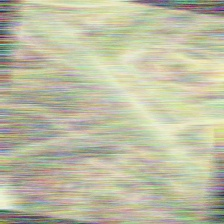Bacterial_Leaf_Blight: (114, 95, 131, 109), (63, 34, 85, 43)
